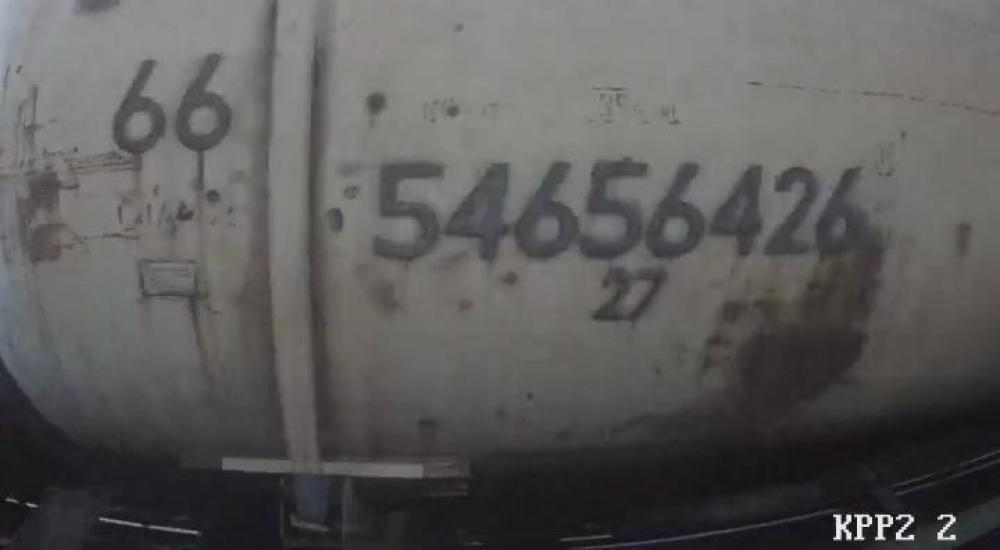Wagon-number: (368, 155, 872, 266)
